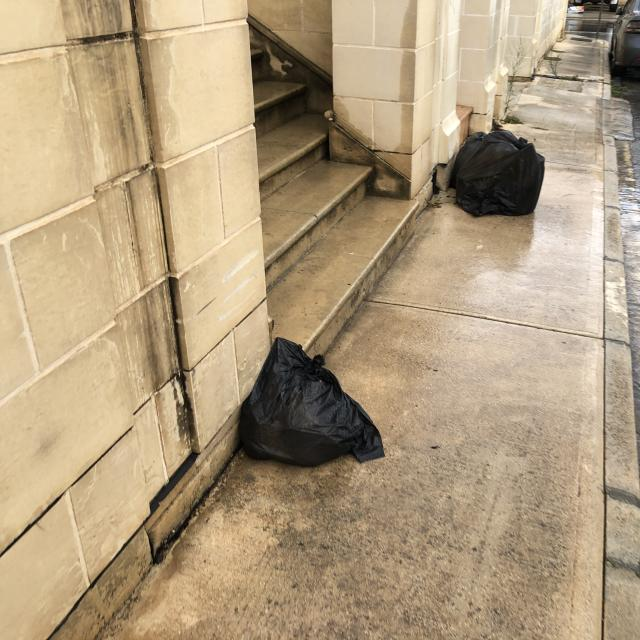Mixed Waste -Black Bag-: (241, 335, 388, 468), (457, 131, 546, 219), (450, 138, 487, 189)
